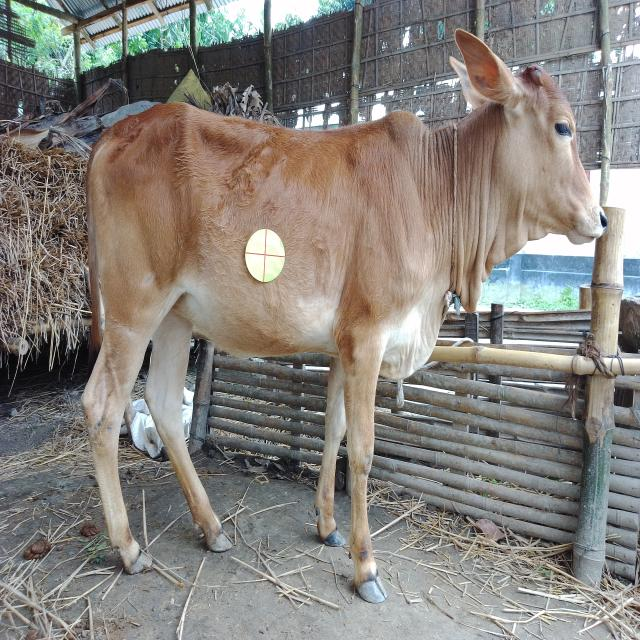badan_sapi: (82, 128, 444, 363)
sapi: (69, 29, 606, 610)
